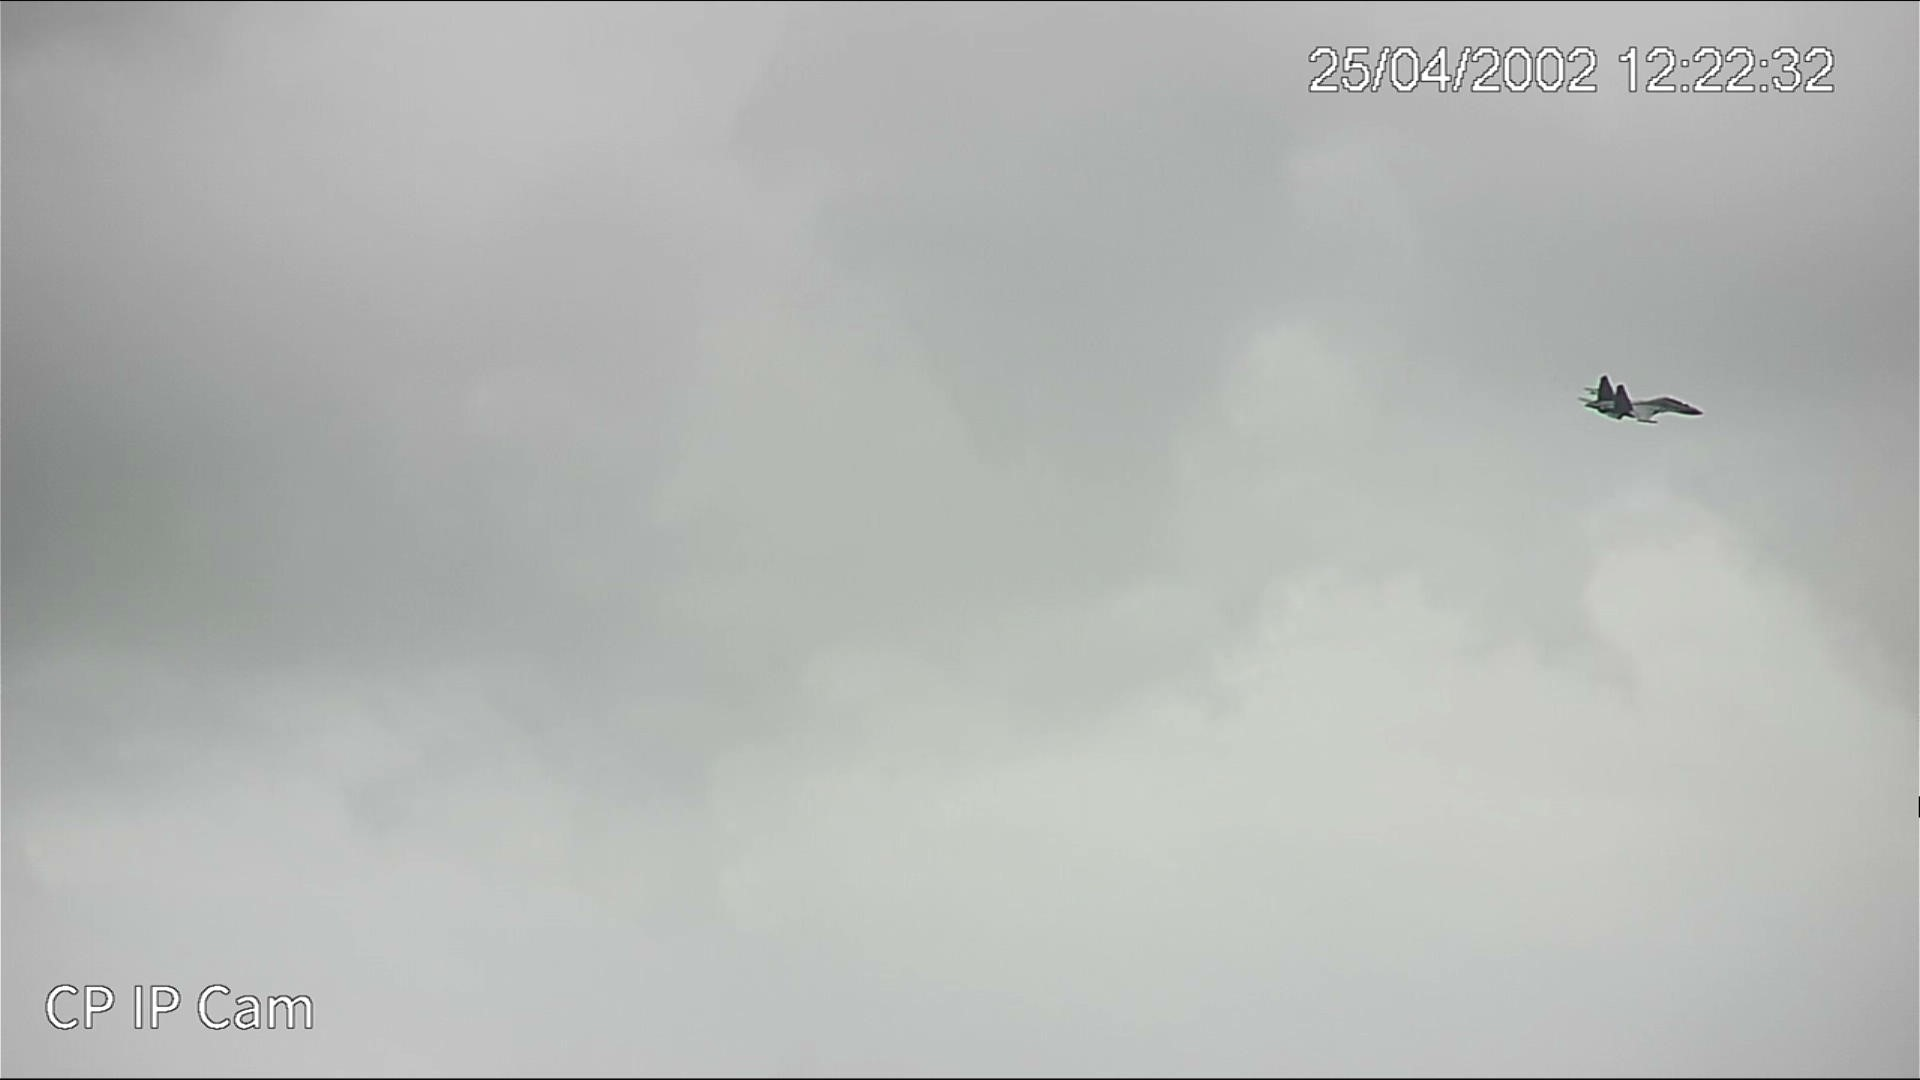SU_30: (1575, 375, 1712, 427)
